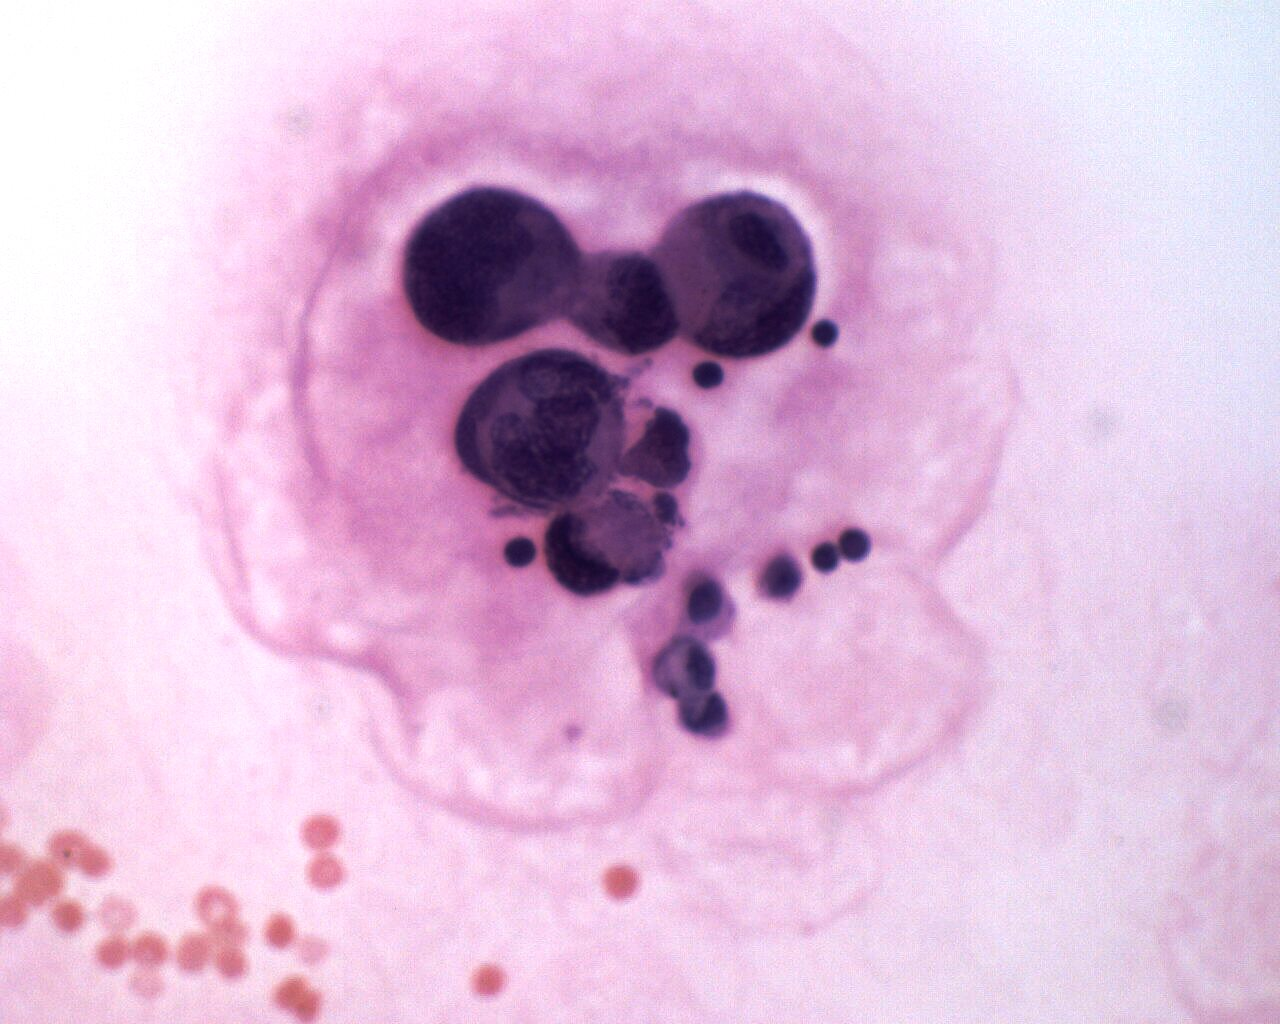ab: (398, 178, 577, 353), (652, 192, 822, 360), (451, 353, 626, 512)
lymph: (491, 527, 540, 578), (835, 523, 879, 569), (688, 353, 731, 398), (809, 315, 852, 360)
meso: (673, 565, 747, 643)
